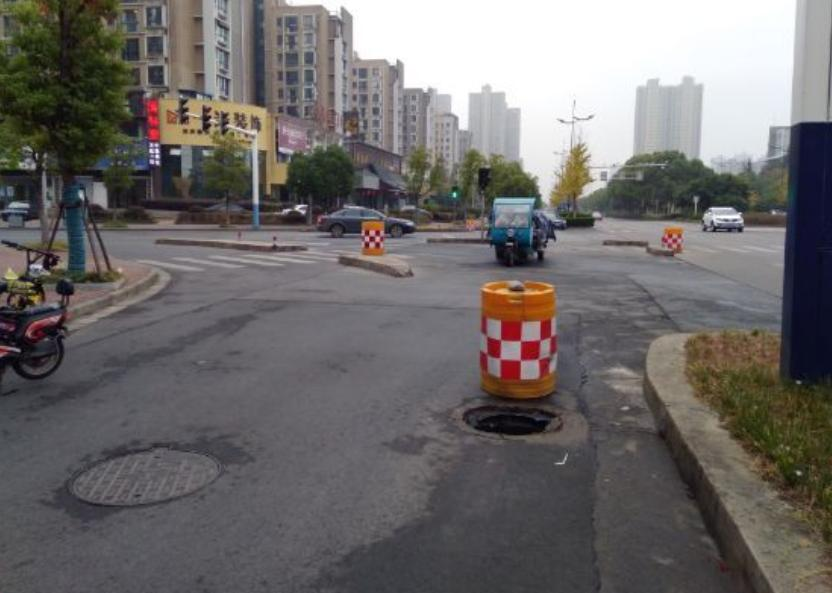wellcover: (62, 443, 226, 511), (454, 398, 571, 445)
